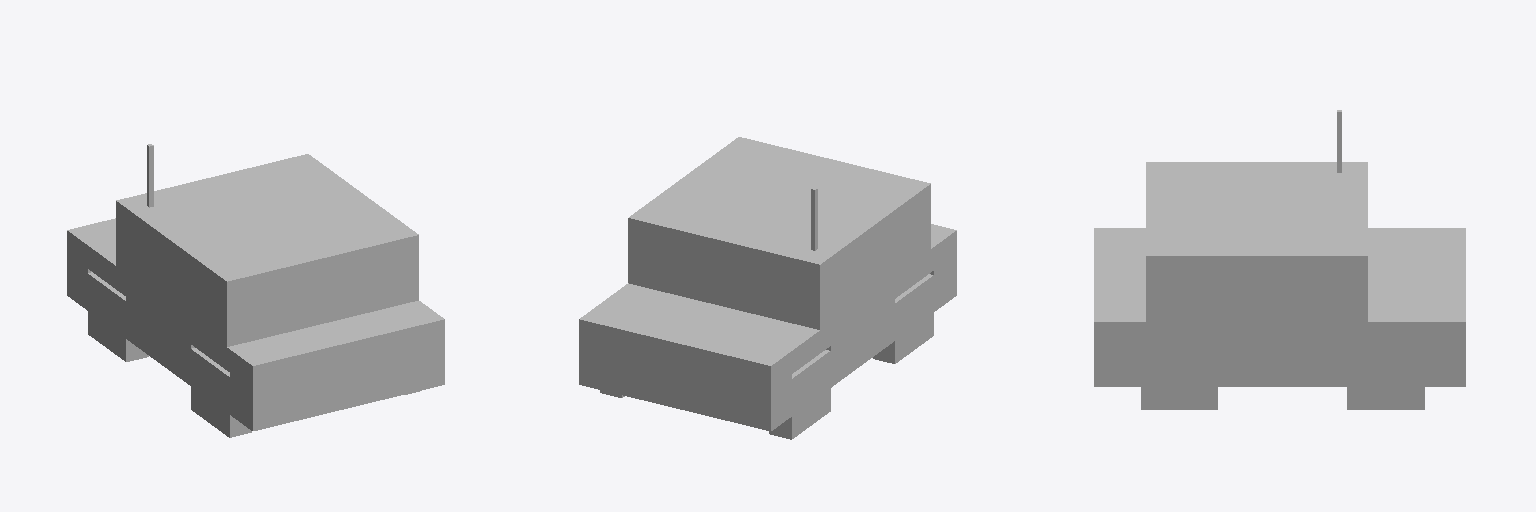
The model's file is car.obj.
3 views of the same model, side by side, from view 1: azimuth 30°, elevation 25°; view 2: azimuth 150°, elevation 25°; view 3: azimuth 270°, elevation 25° (orthographic).
Parts seen in each view (by area): view 1: object 1; view 2: object 1; view 3: object 1.
Part boxes in pixels (left/top/right/bottom): object 1: left=67, top=144, right=444, bottom=437; object 1: left=579, top=137, right=956, bottom=439; object 1: left=1094, top=110, right=1465, bottom=409.
Bounding box in the file's own units: 4.3 × 4.6 × 7.2.